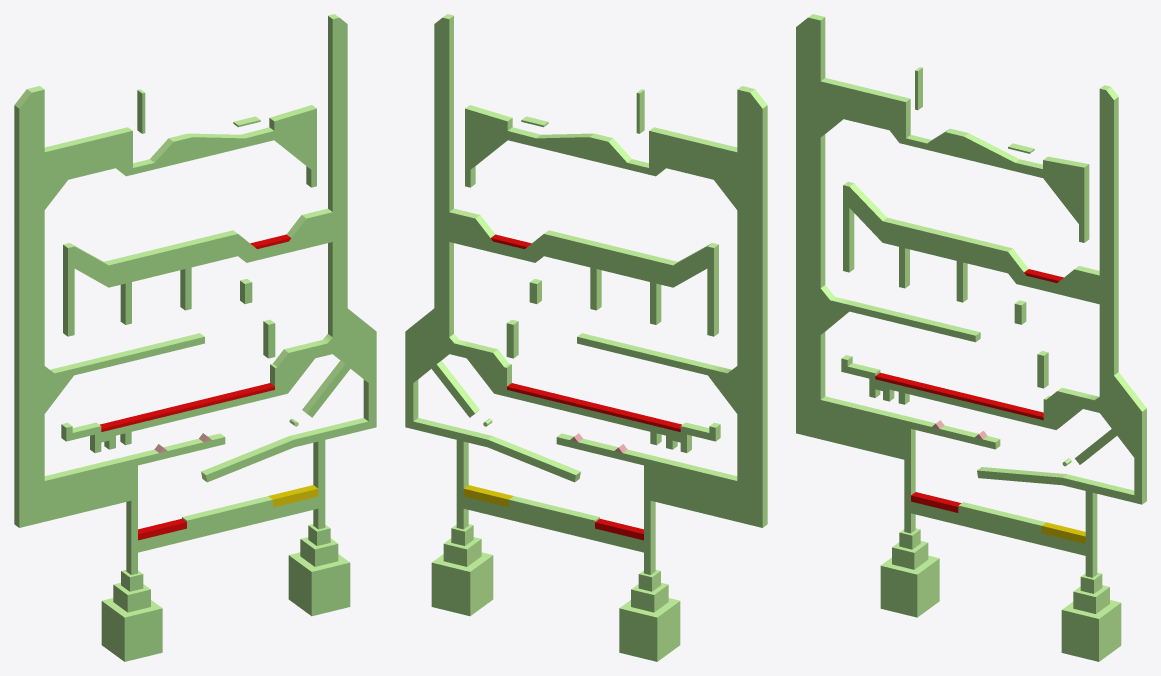
Rendered from level1_fbx1.fbx.
3 renders of one model, left to right at view 1: azimuth 30°, elevation 25°; view 2: azimuth 150°, elevation 25°; view 3: azimuth 330°, elevation 25°, orthographic. The views are drawn at different scales.
Visible parts, largest first — view 1: maingeometry, lava2, exit, lava1; view 2: maingeometry, lava2, exit, lava1; view 3: maingeometry, lava2, exit, lava1.
Part boxes in pixels (x1,y1,x2,y2): maingeometry: [14, 14, 376, 661]; lava2: [100, 383, 274, 431]; exit: [268, 485, 318, 507]; lava1: [138, 518, 186, 540]; maingeometry: [405, 14, 767, 661]; lava2: [507, 383, 681, 431]; exit: [463, 485, 513, 507]; lava1: [595, 518, 643, 540]; maingeometry: [796, 14, 1146, 661]; lava2: [875, 372, 1043, 420]; exit: [1041, 522, 1085, 543]; lava1: [911, 492, 961, 512].
Bounding box in the file's own units: 41.55 × 64.81 × 4.65.
